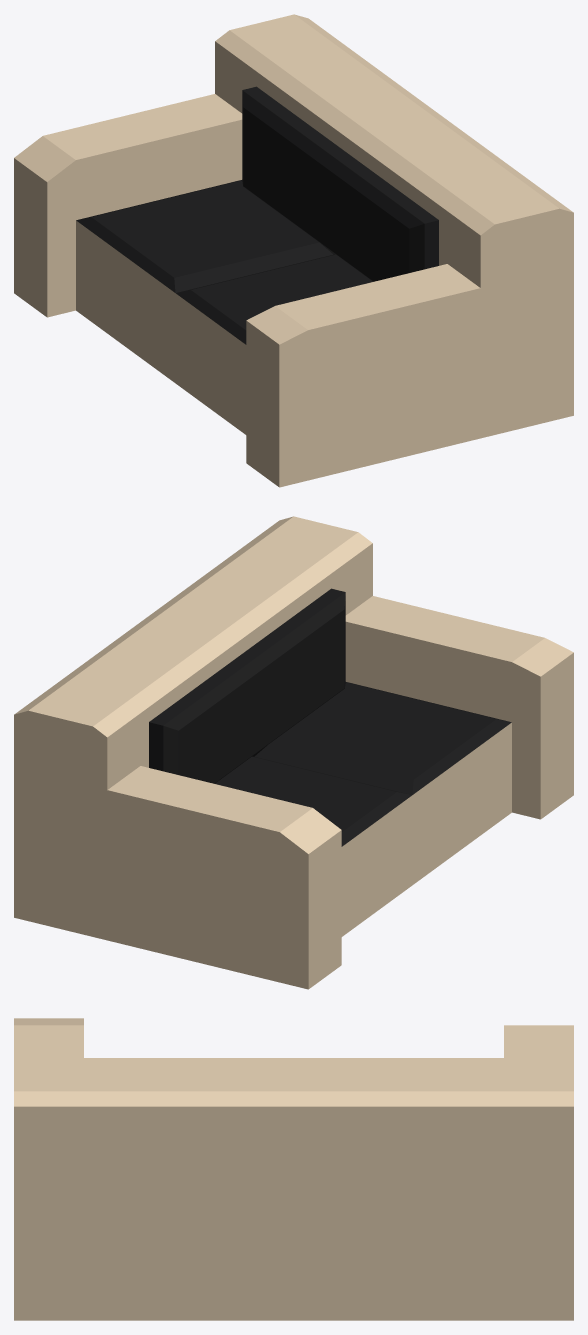
File: couch.gltf
3 renders of one model, top to bottom at view 1: azimuth 30°, elevation 25°; view 2: azimuth 150°, elevation 25°; view 3: azimuth 270°, elevation 25°, orthographic. The views are drawn at different scales.
Visible parts, largest first — view 1: cuboid (×3); view 2: cuboid (×3); view 3: cuboid (×2).
Boxes of the visible parts, left/top/right/bottom form: cuboid (×3): left=14, top=14, right=573, bottom=487; cuboid (×3): left=14, top=516, right=573, bottom=989; cuboid (×2): left=14, top=1018, right=573, bottom=1320.
Bounding box in the file's own units: 0.6406 × 0.4375 × 1.
Materials: 2 (2 with a texture image).
